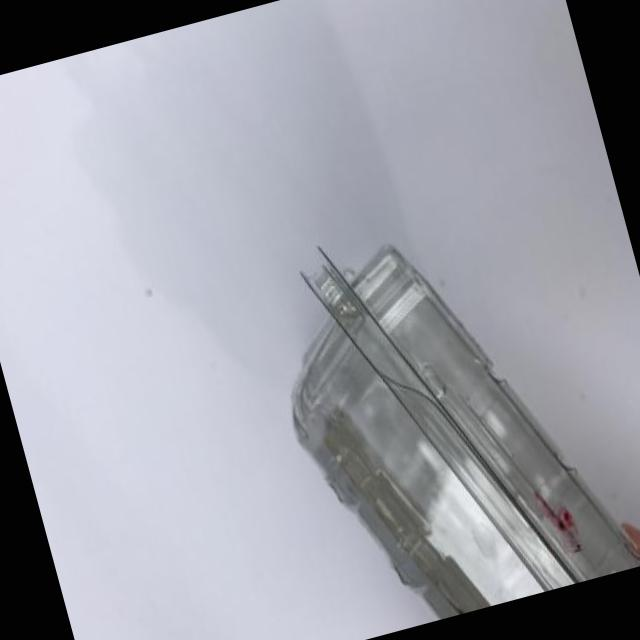Trash: (245, 182, 640, 640)
